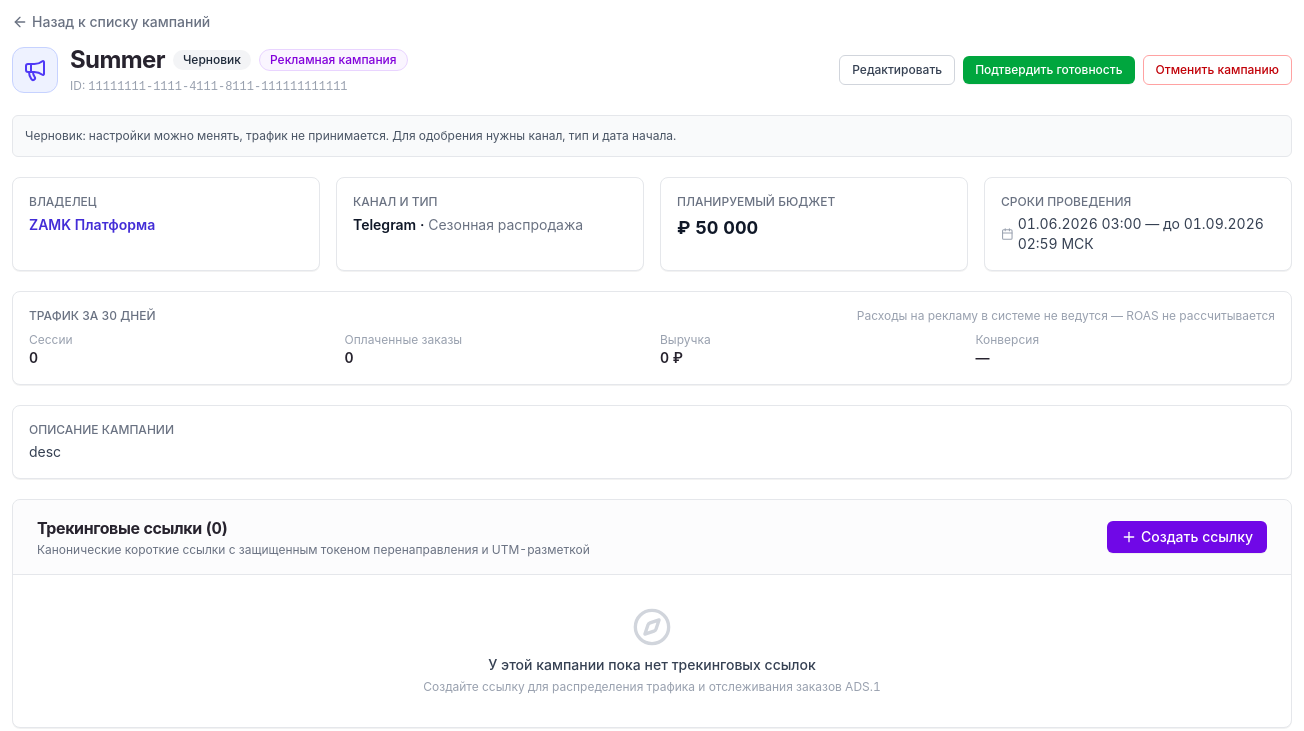
Test case: AdminMarketingCampaignDetail (M1.1/M1.3) › draft approval shows which fields the server still needs (422)
The width and height of the screenshot is (1304, 731).
Click the button with test id "approve-campaign-button". click: click(1049, 70)
box: [963,56,1134,84]
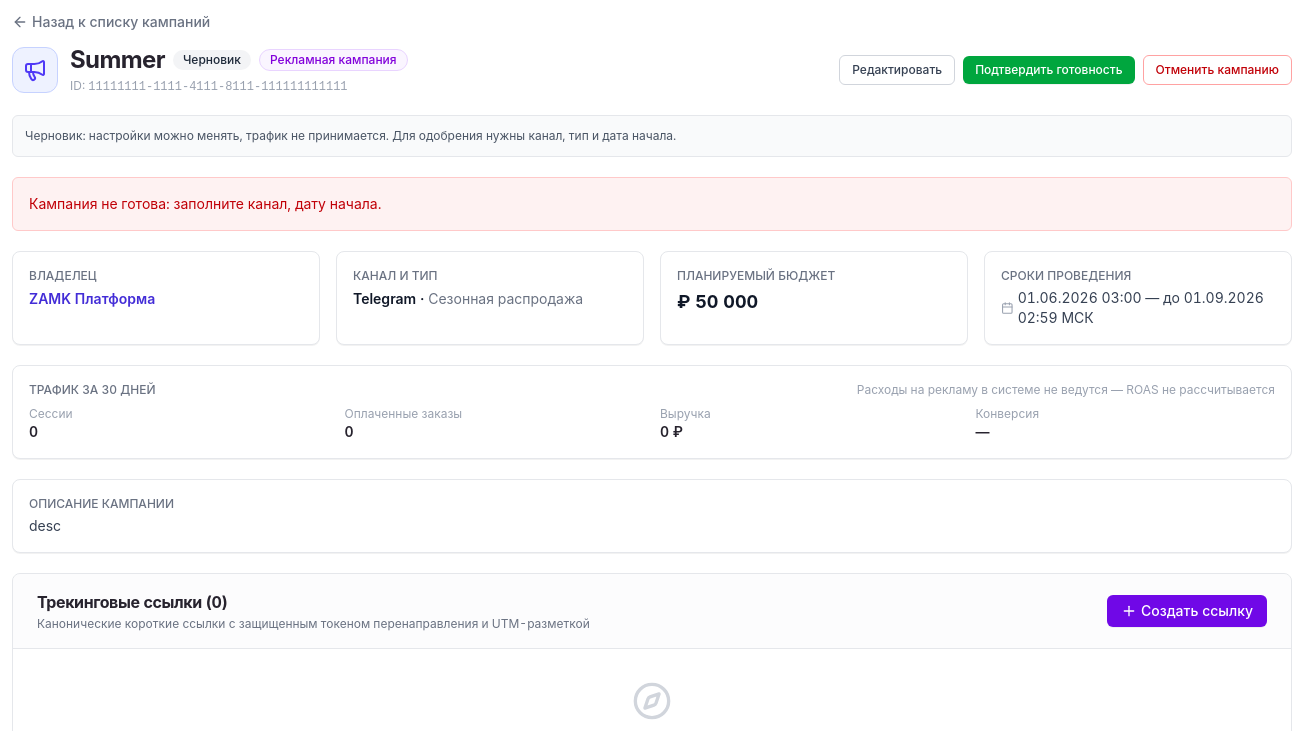
Expected: the text with test id "campaign-status-badge" reads "Черновик", [183,52,241,67]
Expected: the text with test id "detail-error" reads "Кампания не готова: заполните канал, дату начала.", [29,195,381,212]
